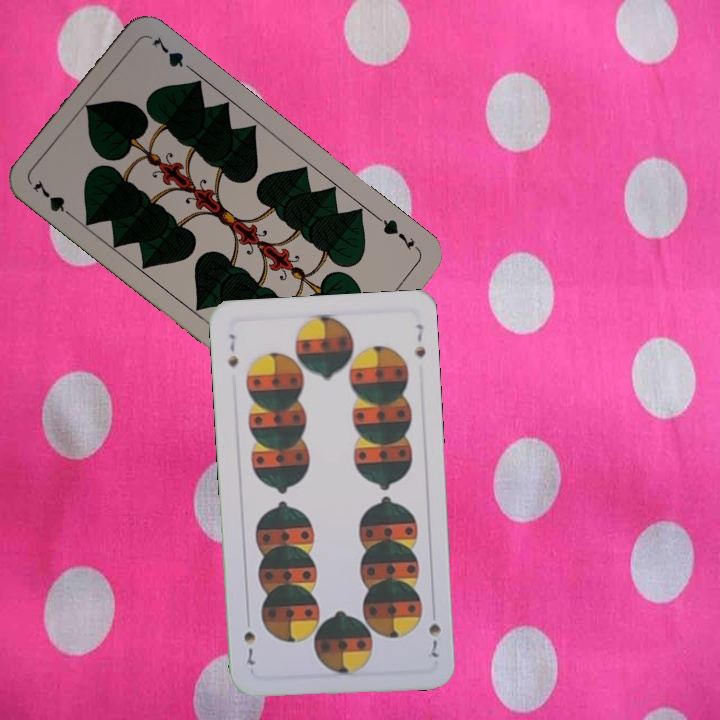G7: (29, 175, 79, 222), (373, 212, 423, 254)
S7: (424, 619, 443, 663), (224, 330, 241, 370)
